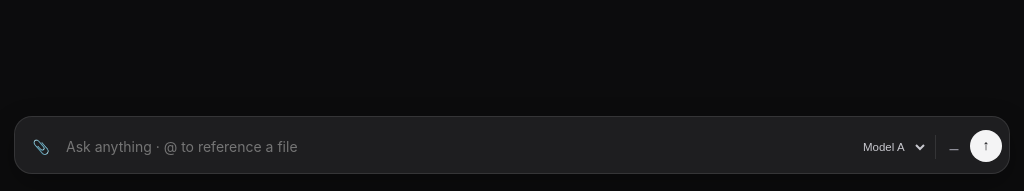
Test: defaults to first enabled model and sends it
This screenshot has width=1024, height=191.
Type "Polish the abstract" into the text box named "AI Chat Prompt" at x=454, y=147, box x1=61 y1=129 x2=848 y2=165
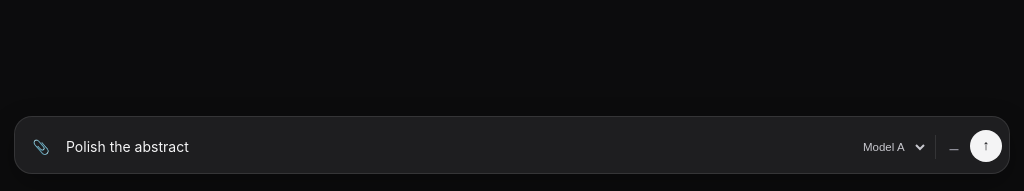
Click the button named "Send Prompt" at x=986, y=146, box x1=970 y1=130 x2=1002 y2=162
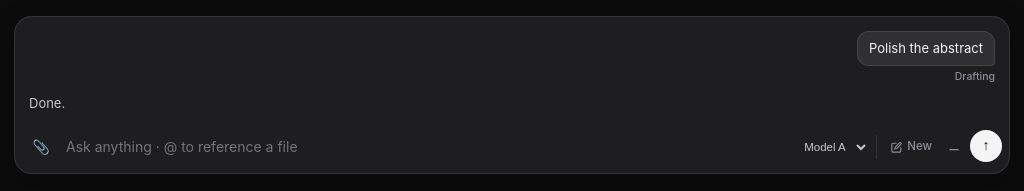
Expected: the text "Polish the abstract" is shown, x1=857 y1=31 x2=995 y2=66
